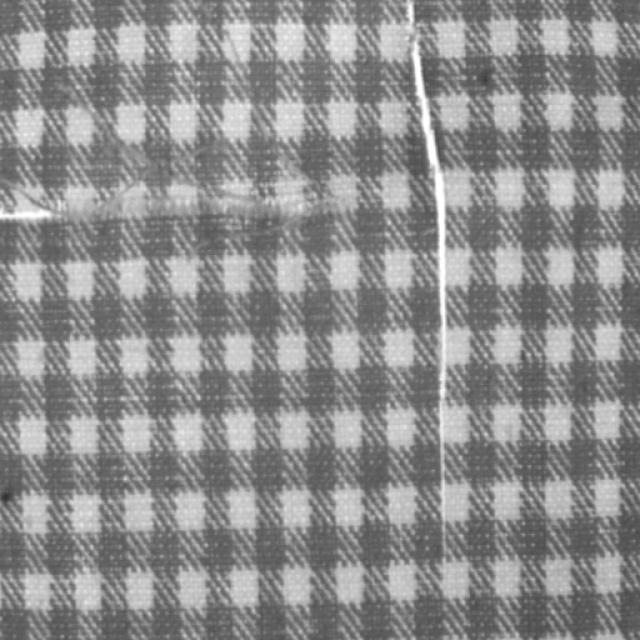Hole-Defect: (406, 0, 468, 589), (0, 195, 340, 224)
